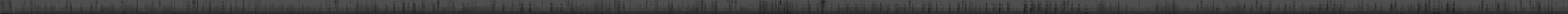Moan: (1030, 0, 1034, 14), (1023, 0, 1026, 14)
